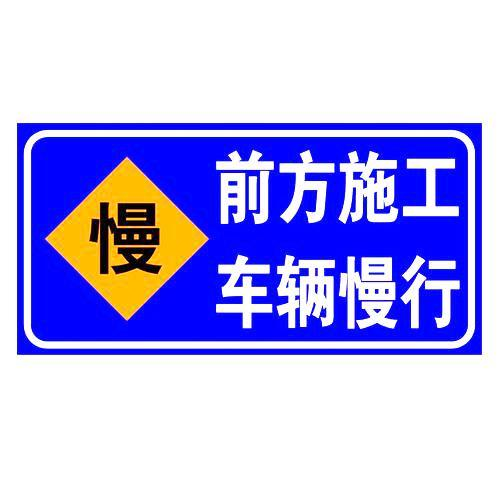sign: (21, 125, 479, 348)
